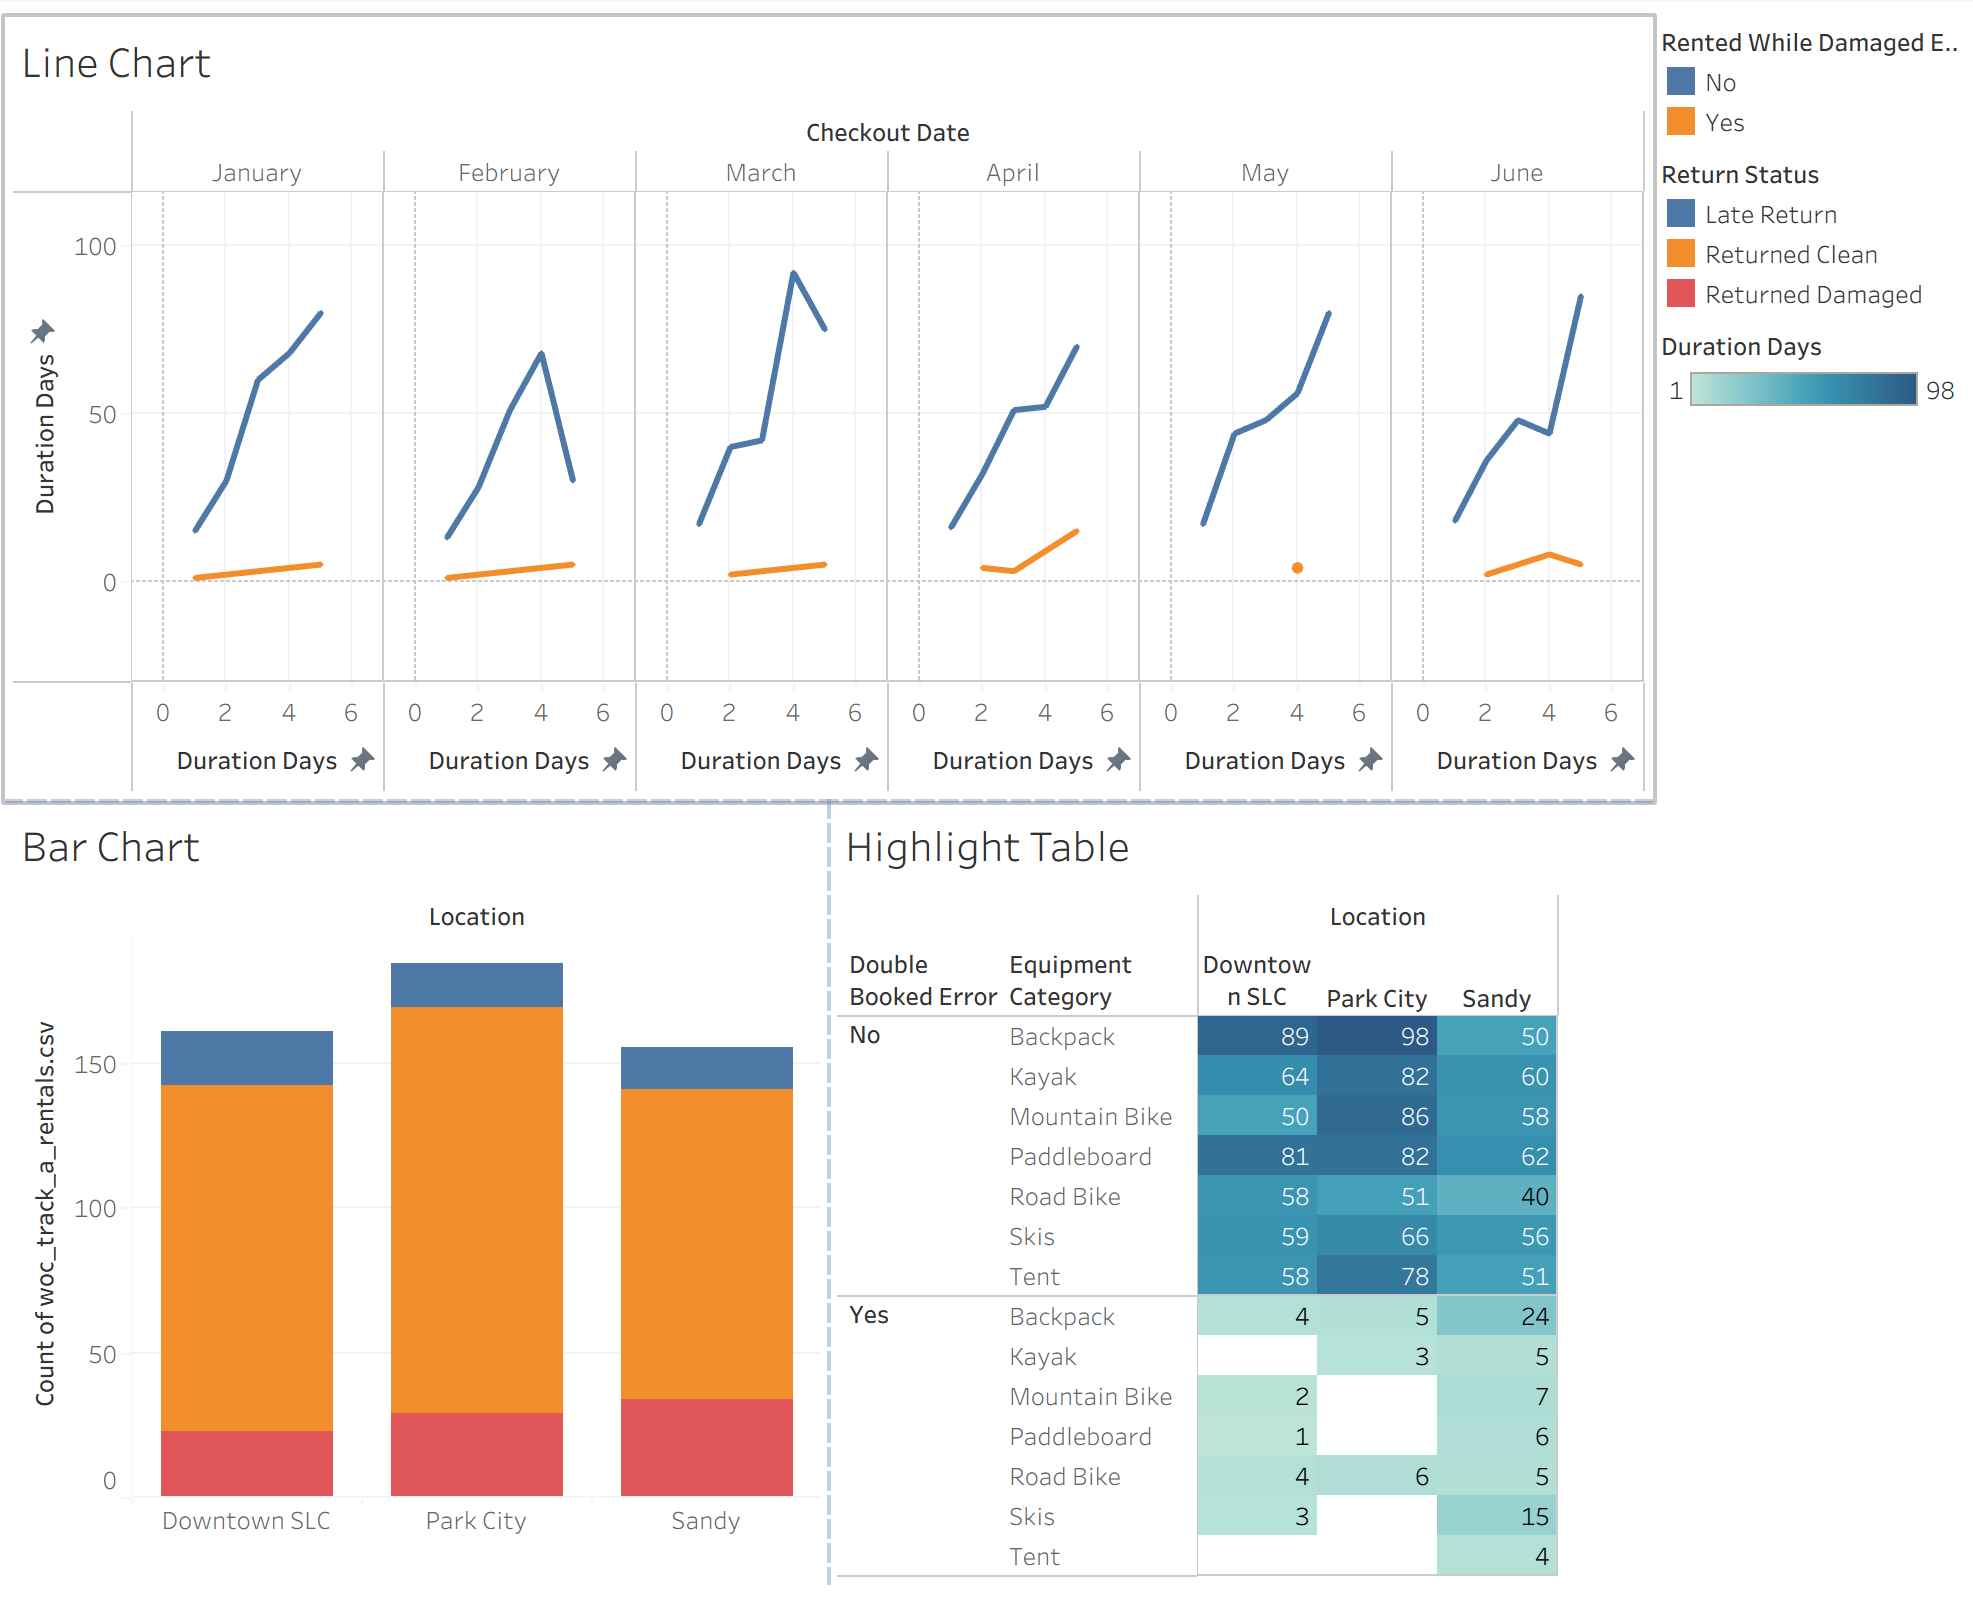

Layout of this report page (visuals, bound fields, positions):
{"tool":"tableau","page":{"name":"WOC Rental Operations - Where are the Errors?","canvas":[1000,800],"ordinal":0},"visuals":[{"type":"worksheet","title":"Line Chart","mark":"Automatic","rows":["Duration_Days"],"cols":["Checkout_Date","Duration_Days"],"box":[8,8,824,392]},{"type":"legend","title":"Line Chart","param":"[federated.06uive608o2vtt1731cie0wn1jio].[none:Rented_While_Damaged_Error:nk]","box":[832,8,160,66]},{"type":"legend","title":"Bar Chart","param":"[federated.06uive608o2vtt1731cie0wn1jio].[none:Return_Status:nk]","box":[832,74,160,86]},{"type":"legend","title":"Highlight Table","param":"[federated.06uive608o2vtt1731cie0wn1jio].[sum:Duration_Days:qk]","box":[832,160,160,65]},{"type":"worksheet","title":"Bar Chart","mark":"Automatic","rows":["woc_track_a_rentals.csv_7AB004CEAD39409584CB3387A8CEEFAE"],"cols":["Location"],"box":[8,400,412,392]},{"type":"worksheet","title":"Highlight Table","mark":"Square","rows":["Double_Booked_Error","Equipment_Category"],"cols":["Location"],"box":[420,400,412,392]}]}

Visuals, with their boxes in screenshot pixels (x1, y1, x2, y2), scaled from the page's 1000x800 canvas onto the 1973x1597 screenshot:
"Line Chart" worksheet: left=16, top=16, right=1642, bottom=798
"Line Chart" legend: left=1642, top=16, right=1957, bottom=148
"Bar Chart" legend: left=1642, top=148, right=1957, bottom=319
"Highlight Table" legend: left=1642, top=319, right=1957, bottom=449
"Bar Chart" worksheet: left=16, top=798, right=829, bottom=1581
"Highlight Table" worksheet (Square marks): left=829, top=798, right=1642, bottom=1581
